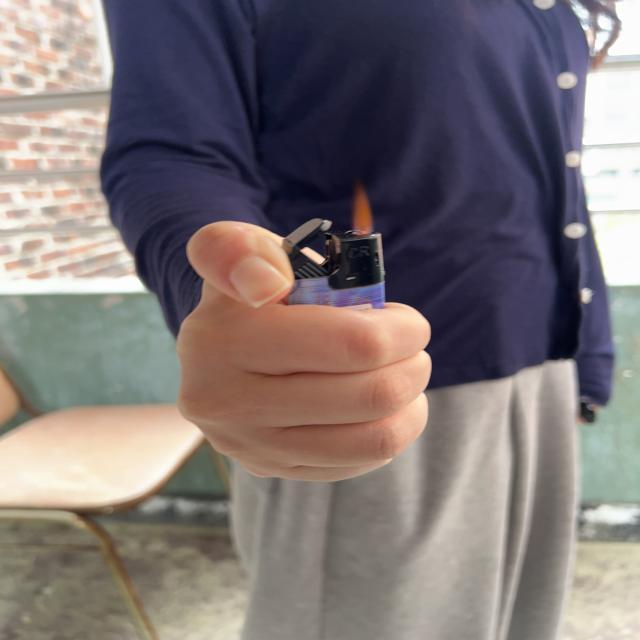fire: (349, 186, 376, 237)
